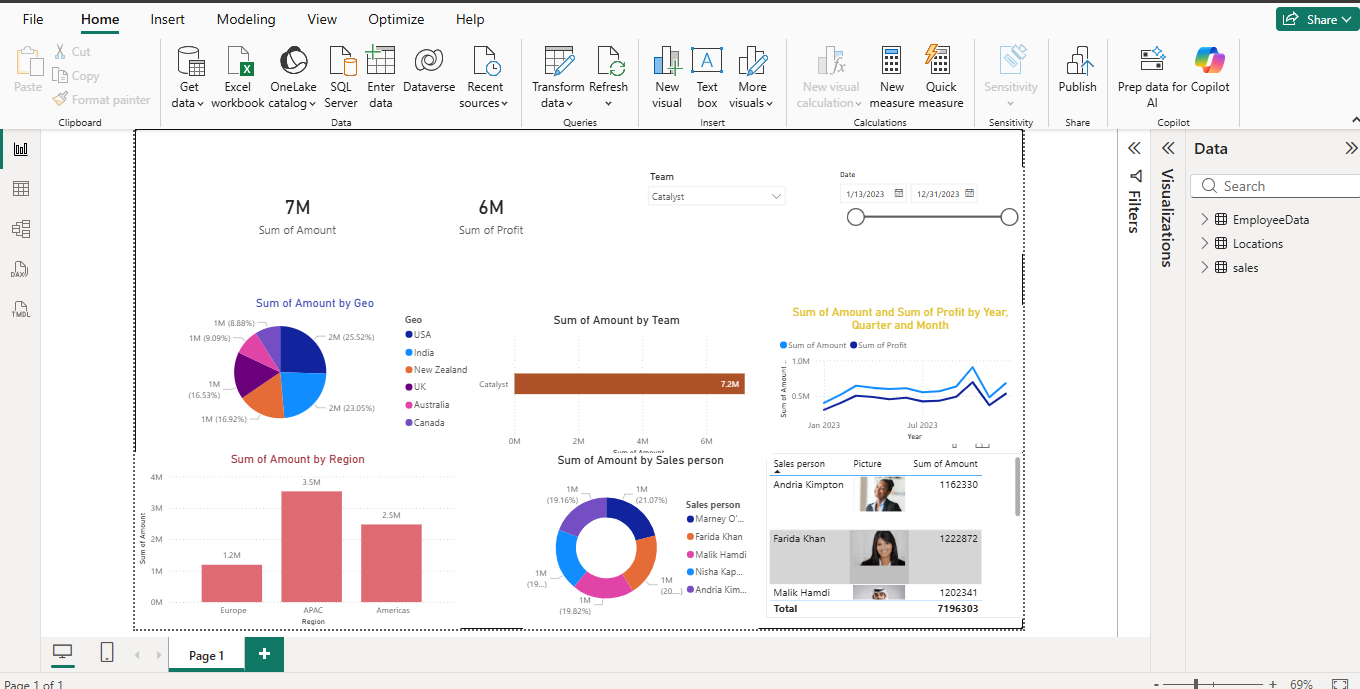

What the dashboard file says about the page in this screenshot:
{"tool":"powerbi","page":{"name":"Page 1","canvas":[1280,720],"ordinal":0},"visuals":[{"type":"clusteredColumnChart","fields":{"Category":["Locations.Region"],"Y":["Sum(sales.Amount)"]},"box":[24.5,479.5,423.4,216],"z":0},{"type":"tableEx","fields":{"Values":["EmployeeData.Sales person","EmployeeData.Picture","Sum(sales.Amount)"]},"box":[884.2,479.5,378.7,216],"z":1000},{"type":"barChart","fields":{"Category":["sales.Product"],"Series":["EmployeeData.Team"],"Y":["Sum(sales.Amount)"]},"box":[447.8,240.5,436.3,213.1],"z":2000},{"type":"pieChart","fields":{"Y":["Sum(sales.Amount)"],"Category":["Locations.Geo"]},"box":[24.5,240.5,391.7,213.1],"z":3000},{"type":"donutChart","fields":{"Category":["EmployeeData.Sales person"],"Y":["Sum(sales.Amount)"]},"box":[475.2,479.5,377.3,216],"z":4000},{"type":"lineChart","fields":{"Category":["sales.Date.Variation.Date Hierarchy.Year","sales.Date.Variation.Date Hierarchy.Quarter","sales.Date.Variation.Date Hierarchy.Month","sales.Date.Variation.Date Hierarchy.Day"],"Y":["Sum(sales.Amount)","Sum(sales.Profit)"]},"box":[908.6,240.5,358.6,213.1],"z":5000},{"type":"card","fields":{"Values":["Sum(sales.Amount)"]},"box":[30.2,46.1,289.4,149.8],"z":6000},{"type":"card","fields":{"Values":["Sum(sales.Profit)"]},"box":[373,46.1,285.1,149.8],"z":7000},{"type":"slicer","fields":{"Values":["sales.Date"]},"box":[997.9,46.1,265,149.8],"z":8000},{"type":"slicer","fields":{"Values":["EmployeeData.Team"]},"box":[694.1,46.1,256.3,149.8],"z":9000}]}

Visuals, with their boxes on the page's 1280x720 design canvas (x1, y1, x2, y2). These are canvas units, not pixel positions in the 1360x689 screenshot, which may show the page scaled, cropped or inside an application window:
clusteredColumnChart - Locations.Region x Sum(sales.Amount): region(24, 480, 448, 696)
tableEx - EmployeeData.Sales person x EmployeeData.Picture: region(884, 480, 1263, 696)
barChart - sales.Product x EmployeeData.Team: region(448, 240, 884, 454)
pieChart - Sum(sales.Amount) x Locations.Geo: region(24, 240, 416, 454)
donutChart - EmployeeData.Sales person x Sum(sales.Amount): region(475, 480, 852, 696)
lineChart - sales.Date.Variation.Date Hierarchy.Year x sales.Date.Variation.Date Hierarchy.Quarter: region(909, 240, 1267, 454)
card - Sum(sales.Amount): region(30, 46, 320, 196)
card - Sum(sales.Profit): region(373, 46, 658, 196)
slicer - sales.Date: region(998, 46, 1263, 196)
slicer - EmployeeData.Team: region(694, 46, 950, 196)
